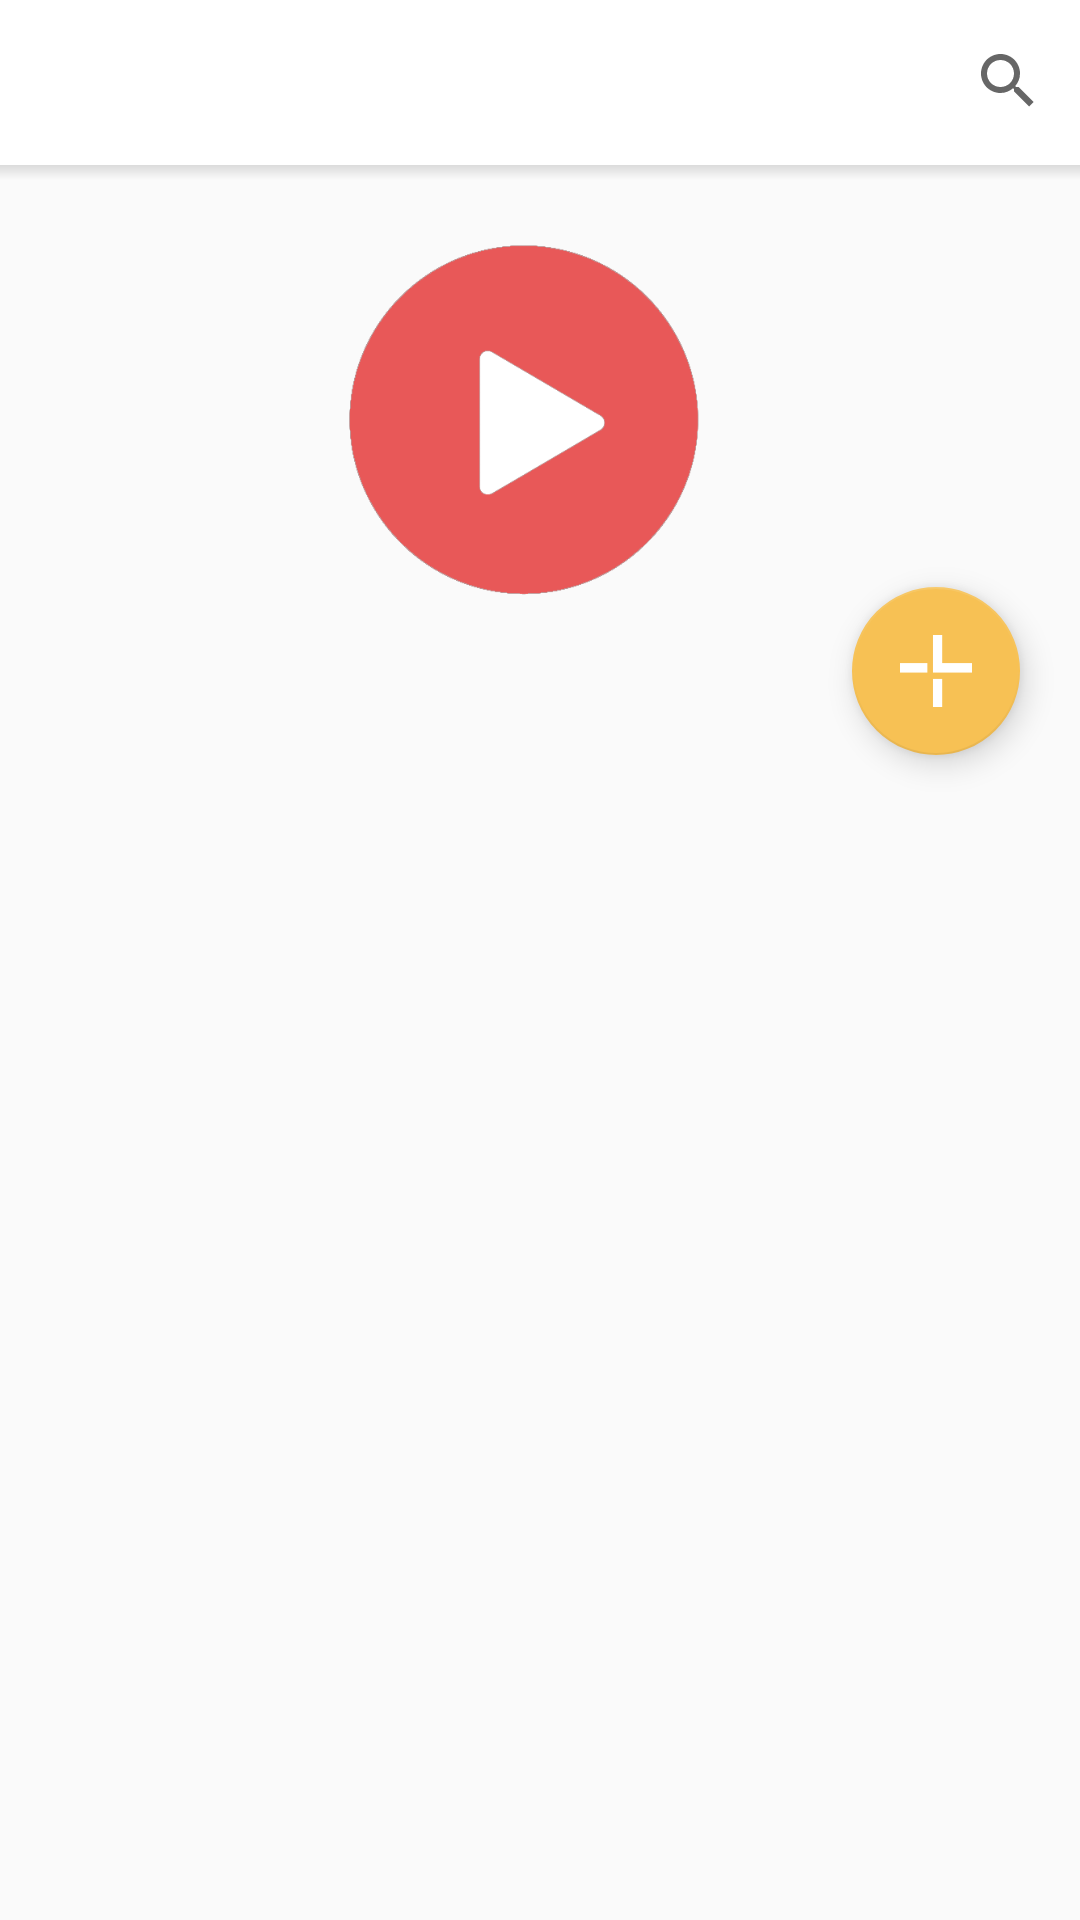

Icons on this 1080px x 1920px Android screen, each with the point to tap as point (x, y):
add: point (936, 671)
video: point (524, 420)
